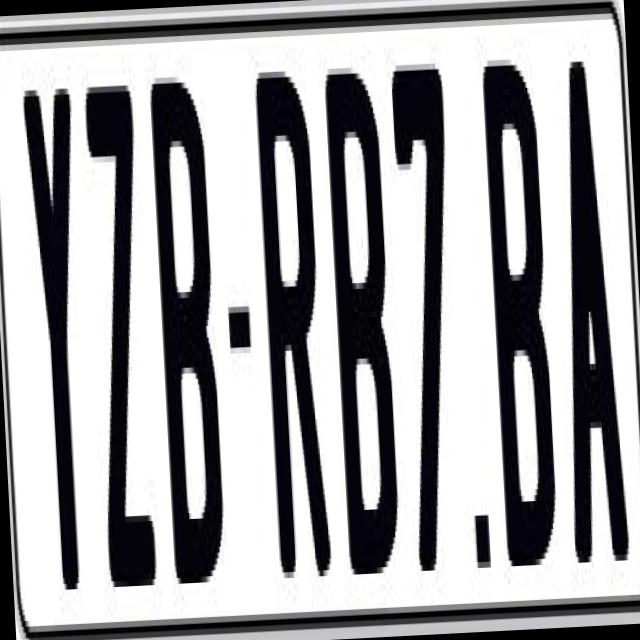7: (391, 58, 468, 594)
A: (547, 54, 630, 586)
B: (146, 64, 233, 596), (322, 72, 408, 580), (480, 52, 566, 555)
R: (252, 59, 334, 590)
Y: (23, 77, 100, 590)
Z: (84, 85, 157, 593)
